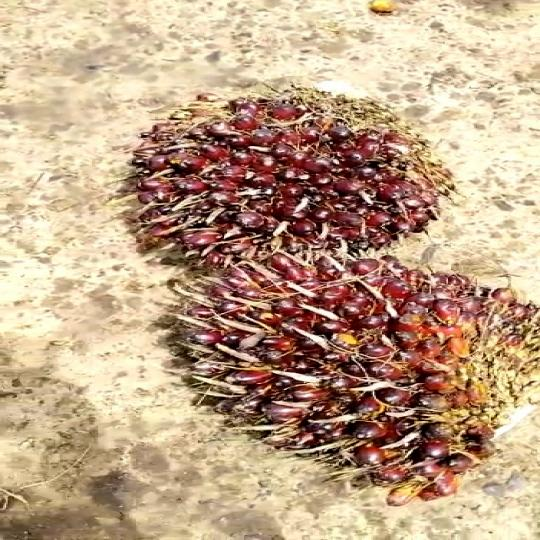kurang masak: (146, 248, 538, 507), (112, 87, 461, 269)
